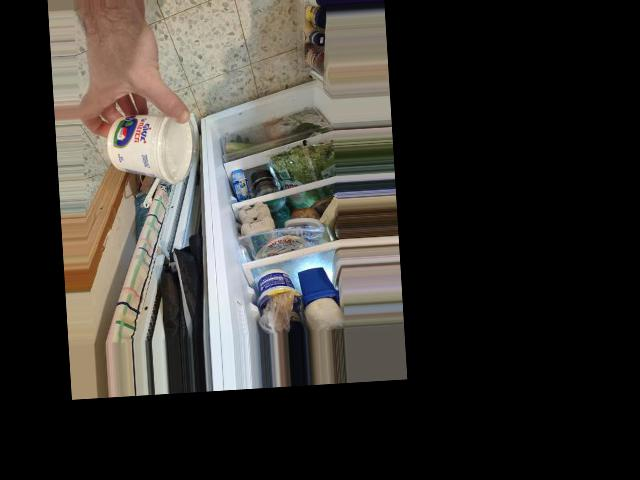cotage: (108, 104, 194, 187)
